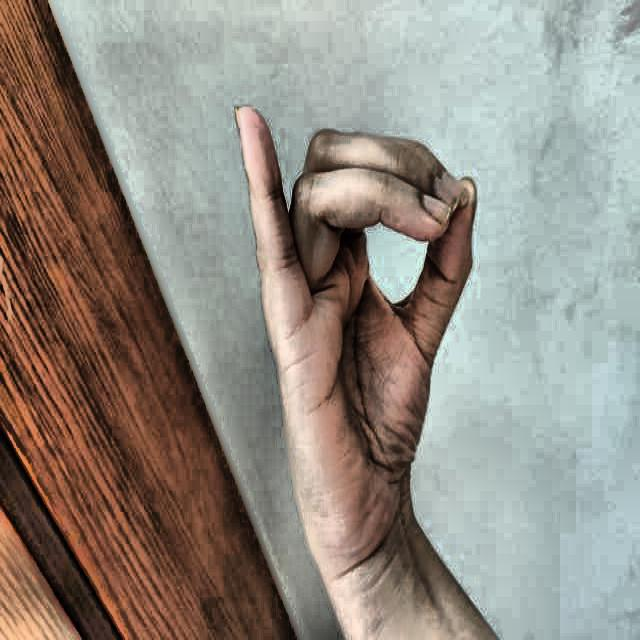Ou: (214, 79, 496, 583)
